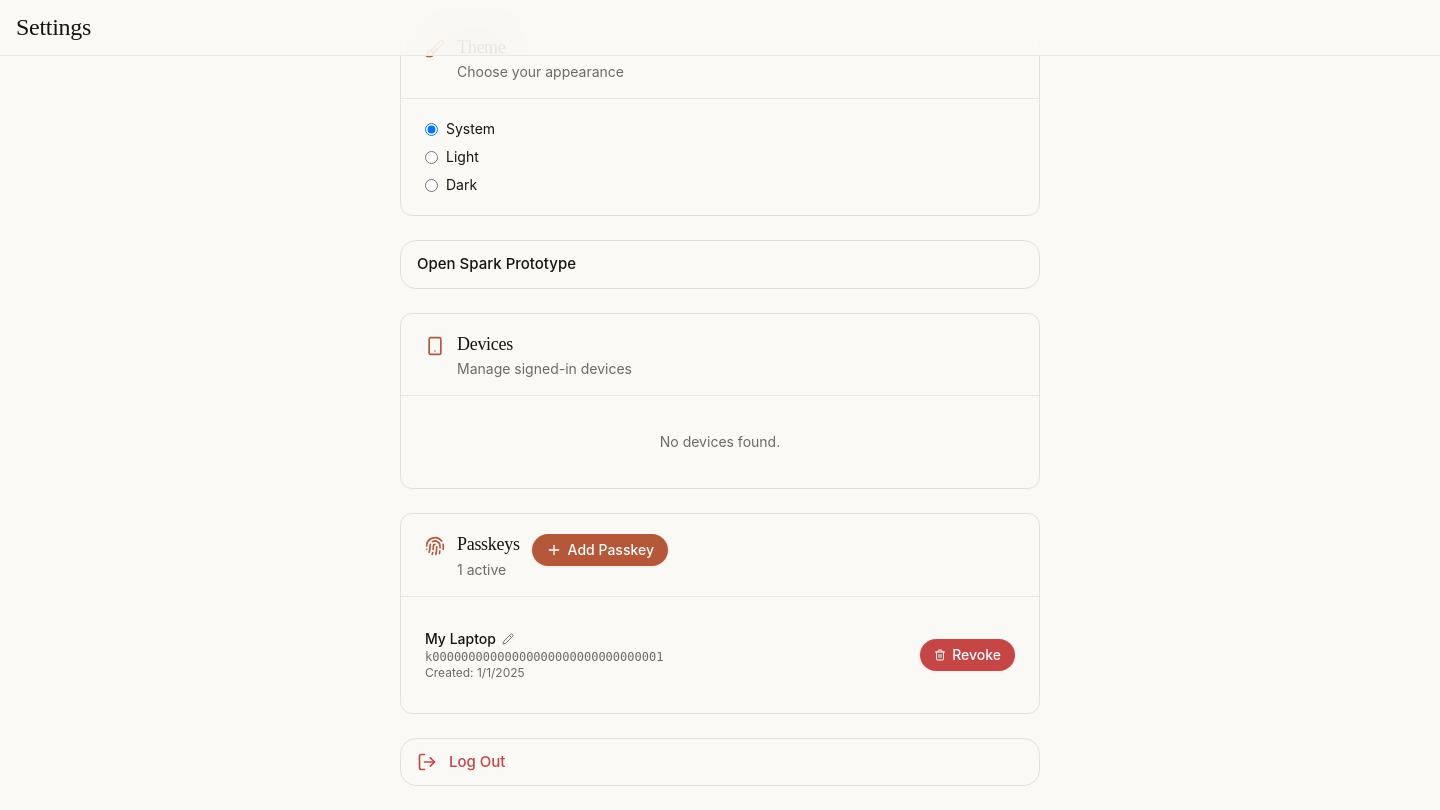
Test: Settings – passkey rename › cancels edit on cancel button click
The width and height of the screenshot is (1440, 810).
(page scrolled)
Expected: the text "My Laptop" is shown, [425,629,496,649]
Click the button with test id "passkey-edit-btn" at coordinates (508, 639), box [500,631,516,647]
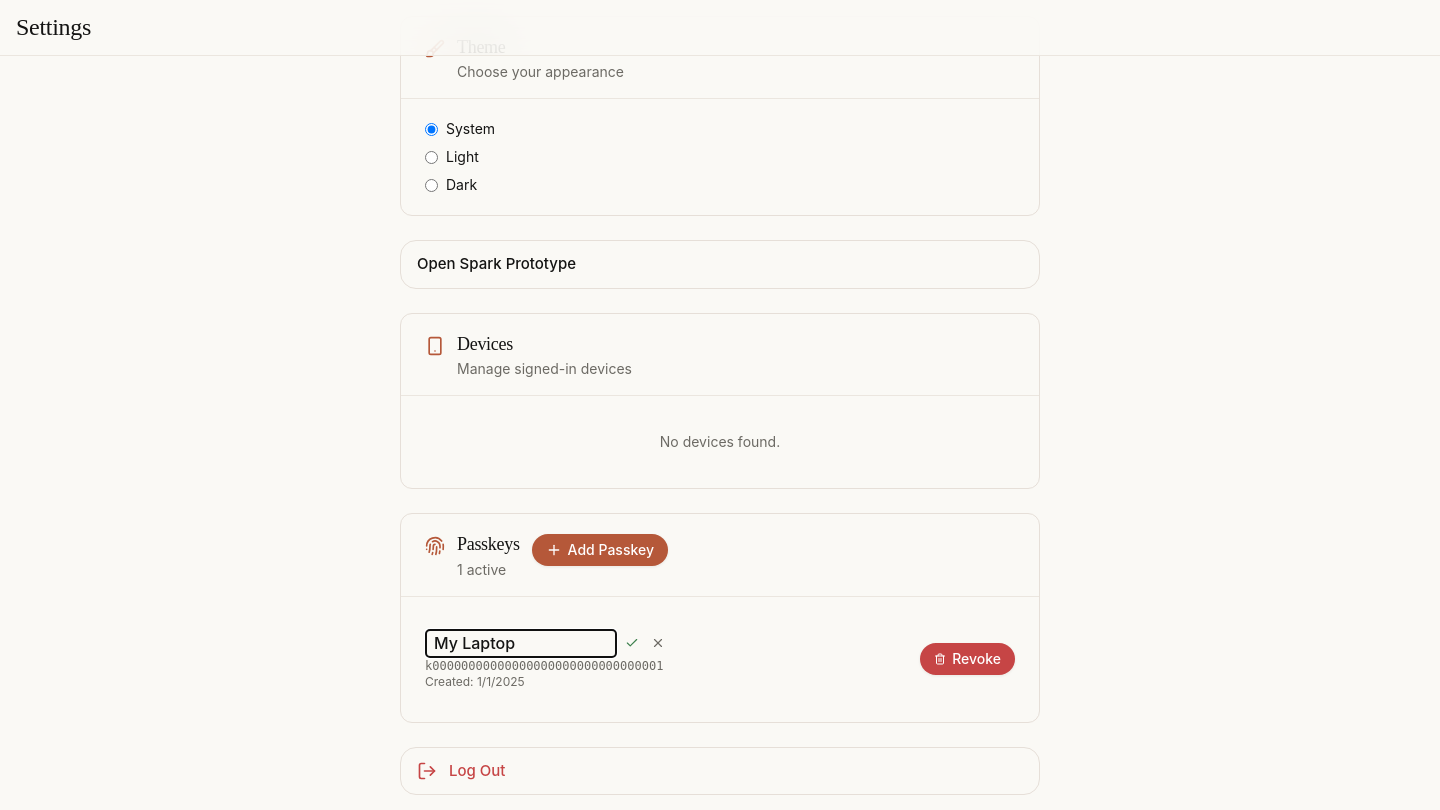
Click the button with test id "passkey-name-cancel" at coordinates (658, 643), box [647,632,669,654]
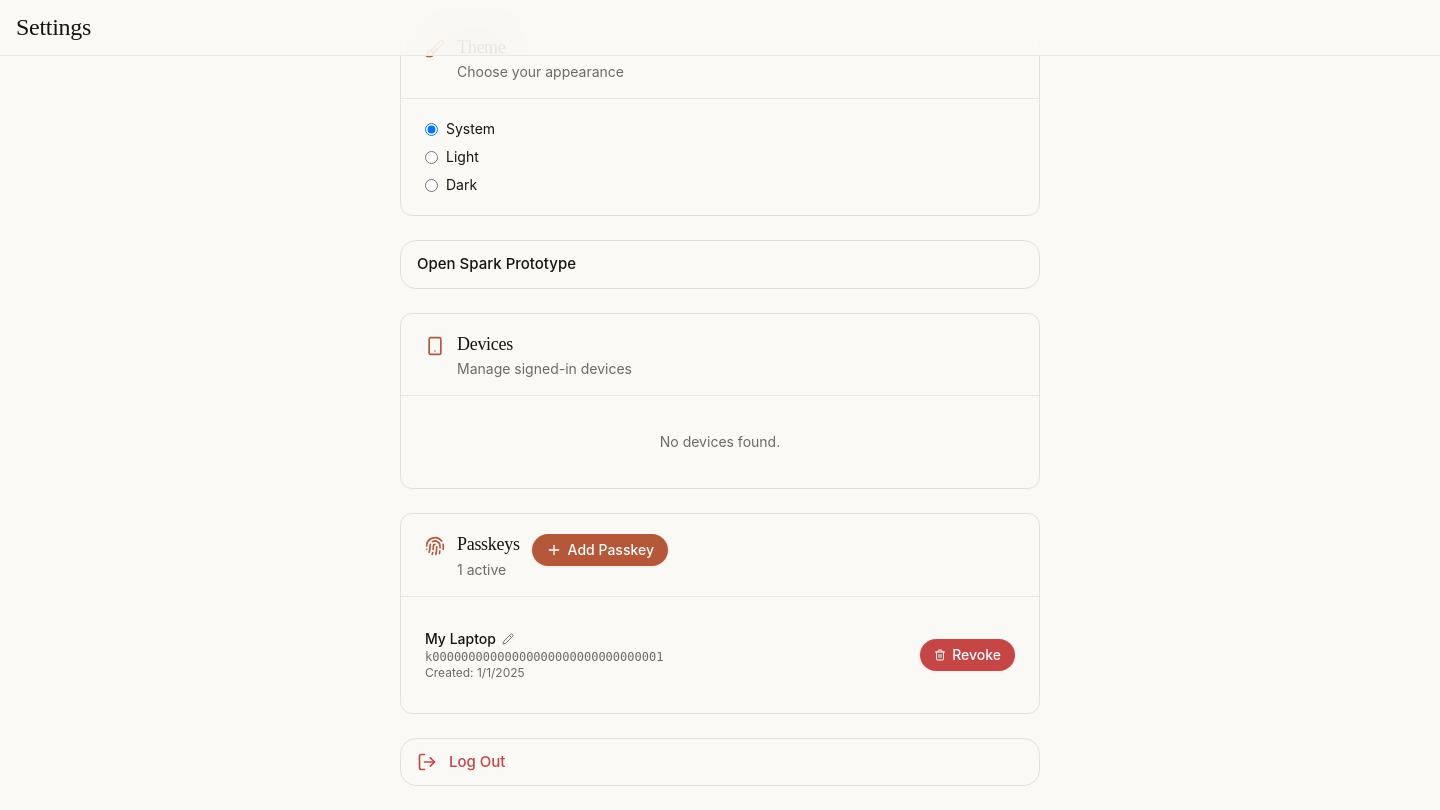
Expected: the field with test id "passkey-name-input" is gone
